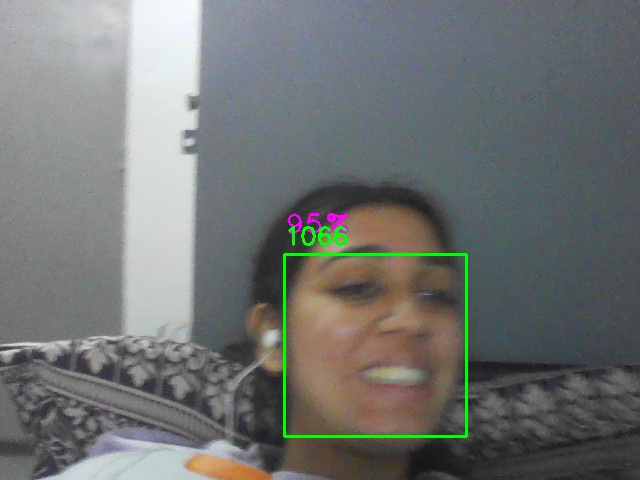real: (284, 254, 467, 437)
